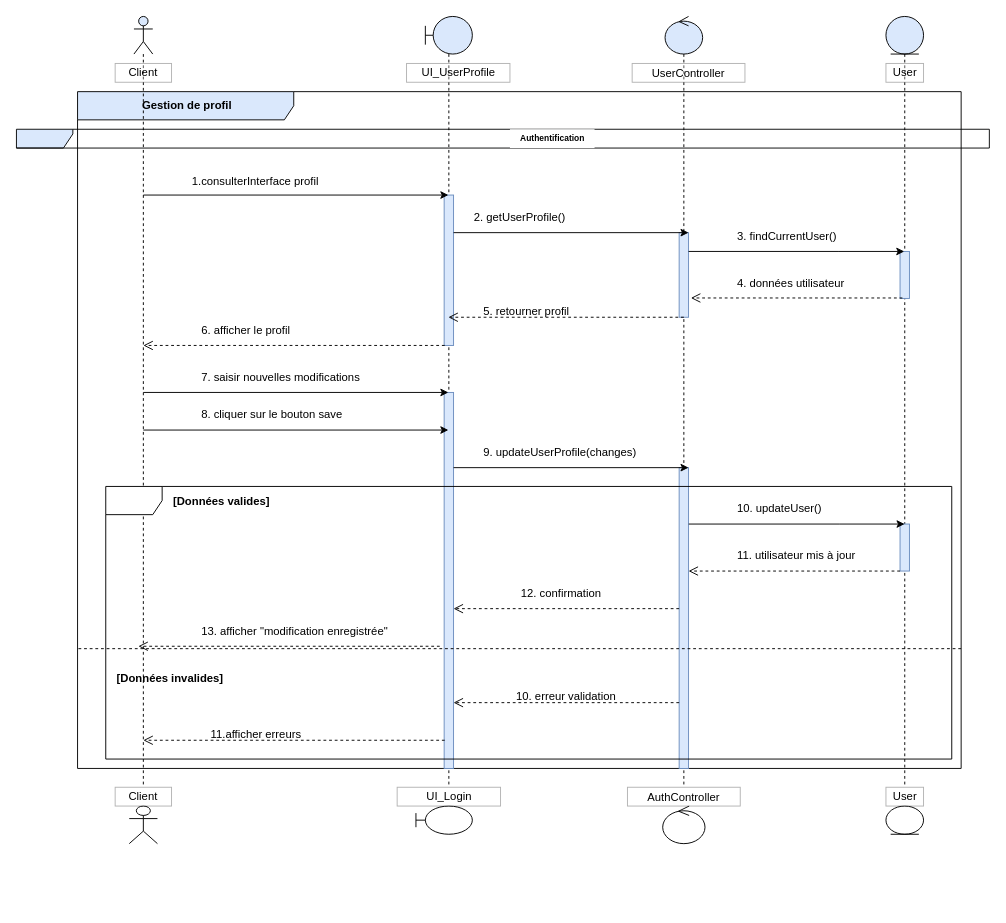
The diagram is 1006 pixels wide and 923 high, and some of its shapes have lost their labels. Here are the shapes that lost their labels. From the top down, the box of each, then its label:
(16, 128, 989, 148): ref
(105, 486, 952, 759): alt
